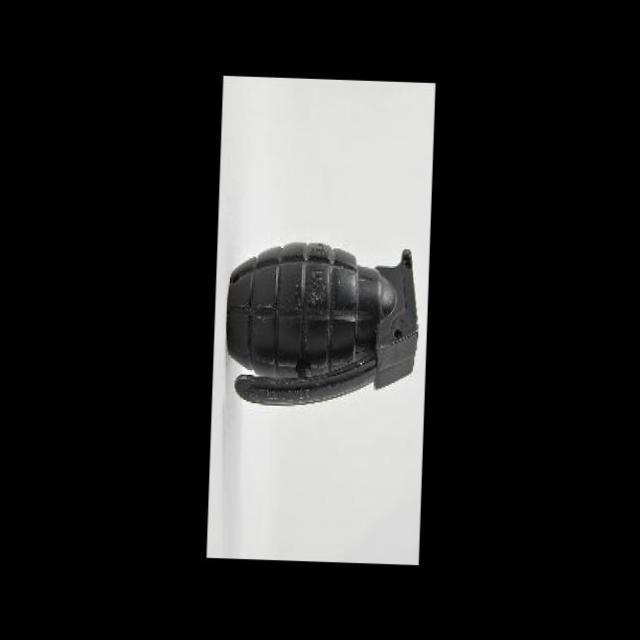grenade: (216, 219, 428, 412)
